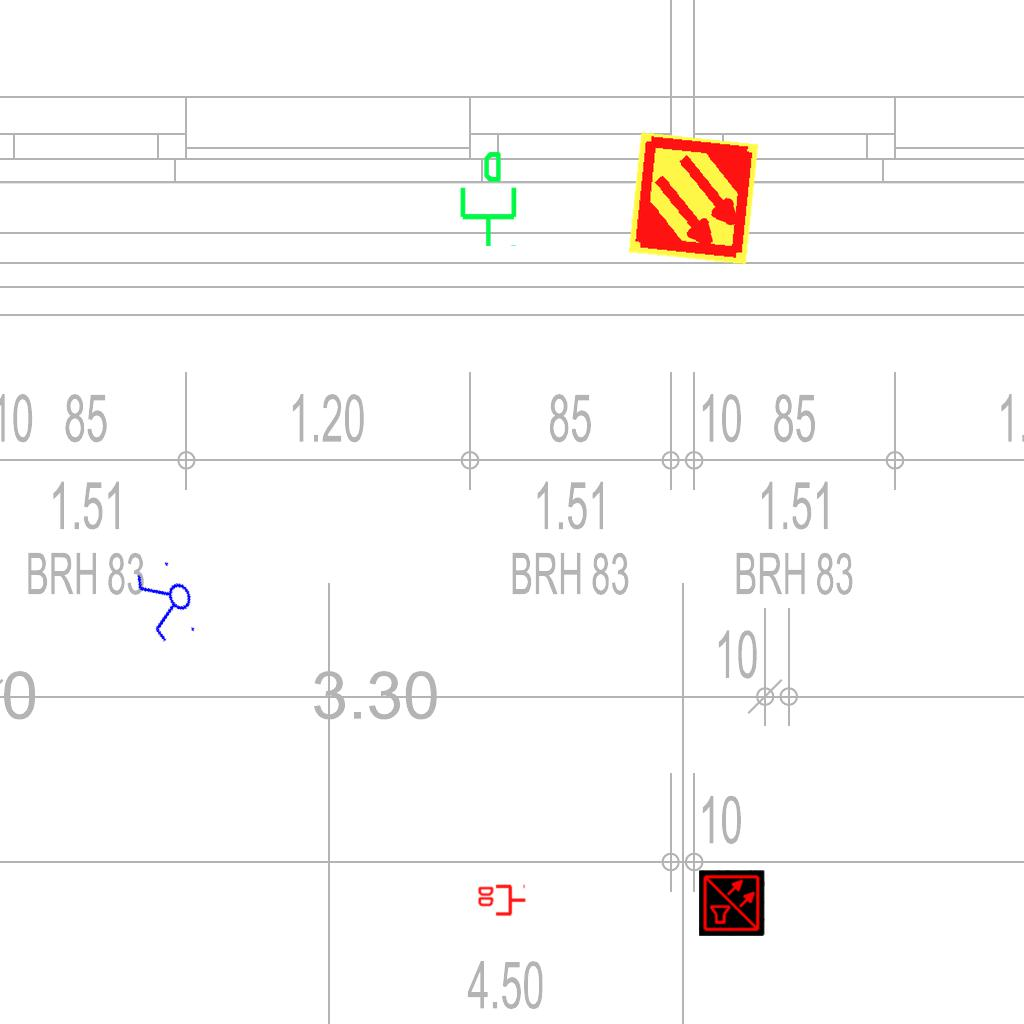ASR_Ansaugrauchmelder: (624, 129, 763, 268)
Datenanschluss_einfach: (452, 149, 521, 249)
Datenanschluss_zweifach: (476, 884, 527, 918)
OKW_Multisensormelder_(Kombination_optischer_Rauch-Kahlenmonoxid_Waerme-Melder): (699, 870, 765, 936)
Serienschalter: (130, 554, 206, 650)
